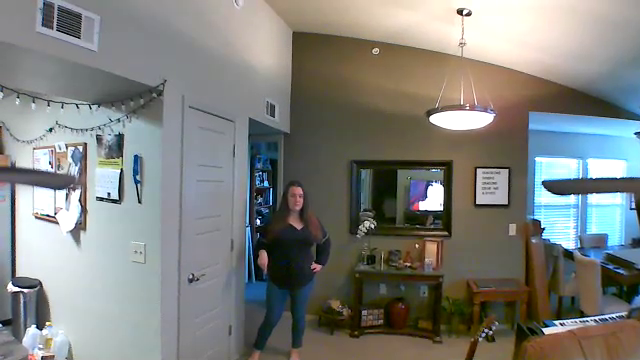down: (254, 245, 272, 282)
